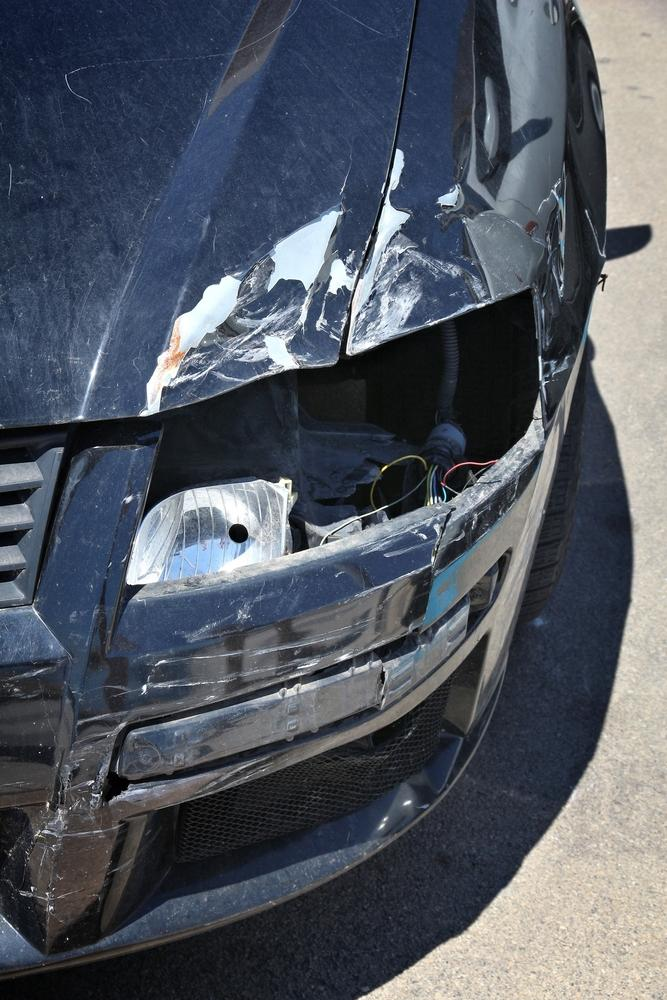crack: (376, 657, 386, 709)
scratch: (28, 600, 385, 924), (136, 200, 372, 413), (339, 192, 541, 363)
